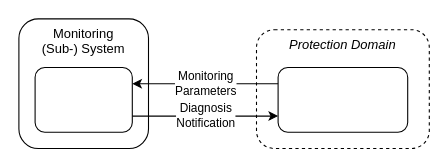
Image size: 448x167. Some labels were removed from this diagram. Each missing label, with the centre of its shape:
"Cause/Effect or Effect/Cause Analysis" belongs at [83,99].
"Monitored (Sub-) System" belongs at [342,99].
